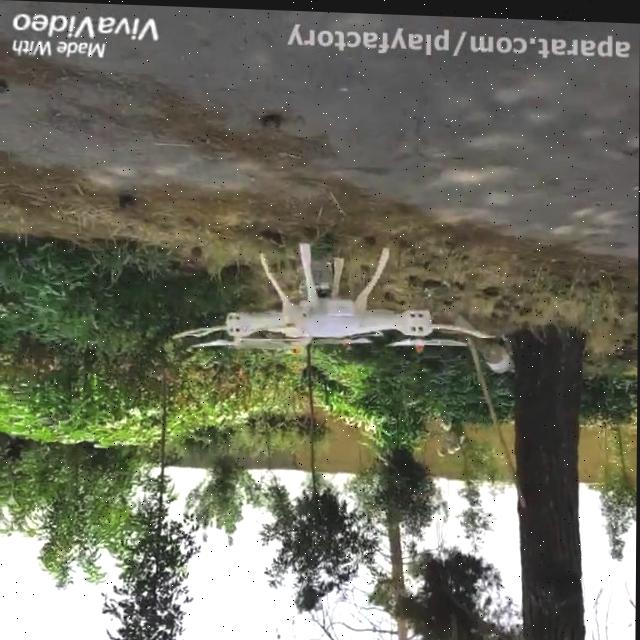drone: (171, 234, 497, 362)
